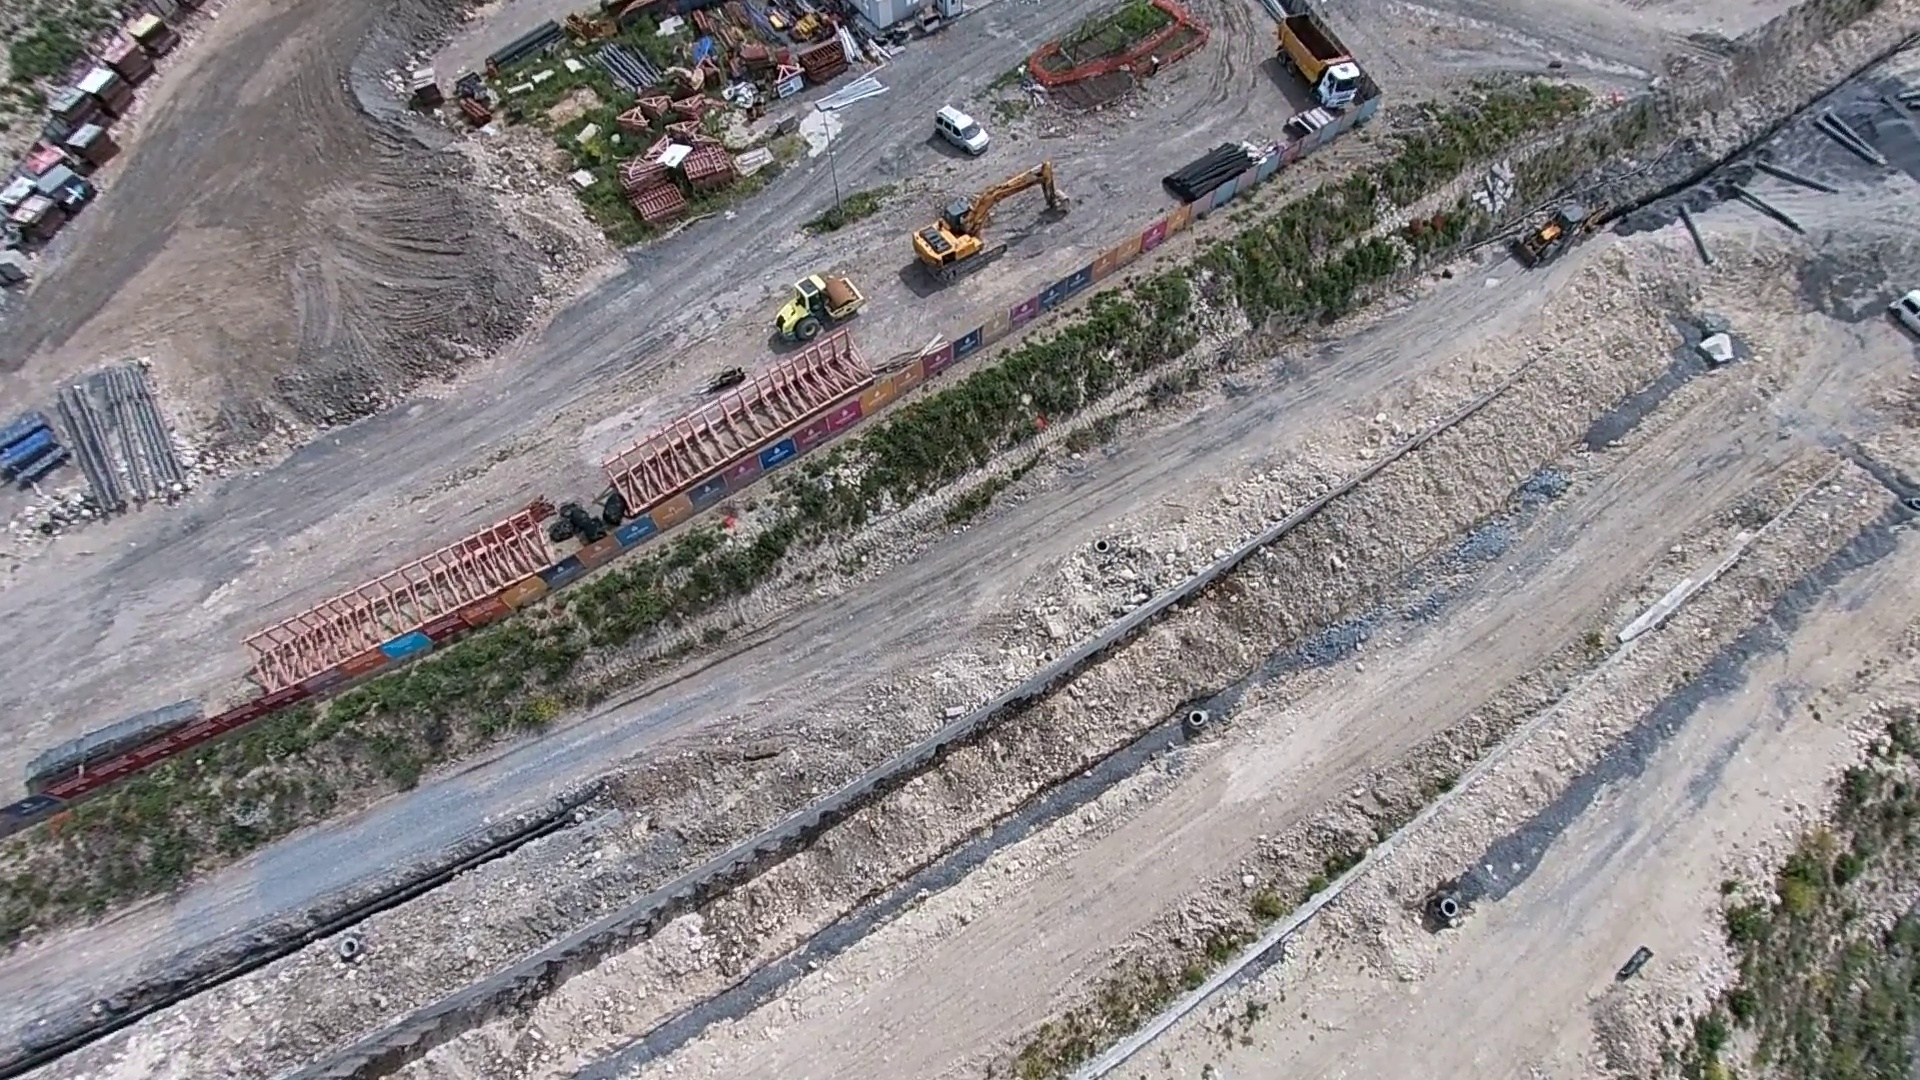arac: (902, 148, 1073, 280), (1274, 1, 1371, 113), (761, 270, 865, 349), (1503, 193, 1597, 269), (928, 96, 1002, 161), (1887, 281, 1920, 328)
